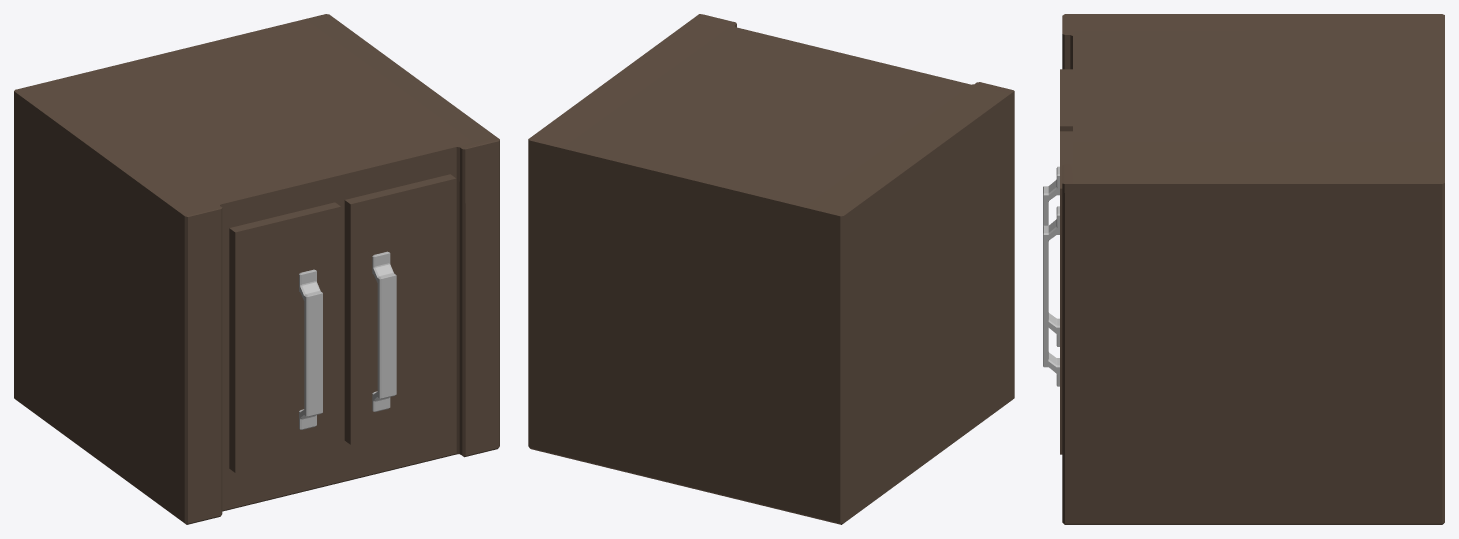
Rendered from topcounter.fbx.
3 renders of one model, left to right at view 1: azimuth 30°, elevation 25°; view 2: azimuth 150°, elevation 25°; view 3: azimuth 270°, elevation 25°, orthographic. The views are drawn at different scales.
Visible parts, largest first — view 1: polySurface3; view 2: polySurface3; view 3: polySurface3.
Boxes of the visible parts, left/top/right/bottom form: polySurface3: left=14, top=14, right=499, bottom=524; polySurface3: left=528, top=14, right=1014, bottom=524; polySurface3: left=1043, top=14, right=1444, bottom=524.
Bounding box in the file's own units: 1.17 × 1.09 × 1.17.
